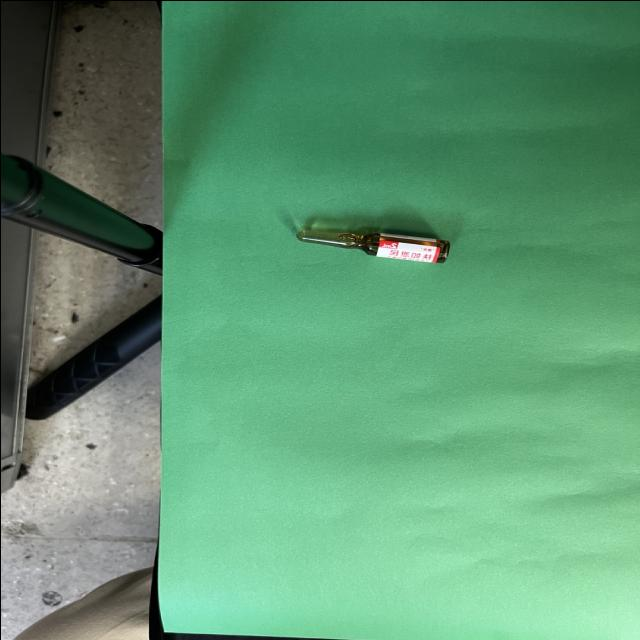Ampoules: (295, 228, 449, 262)
